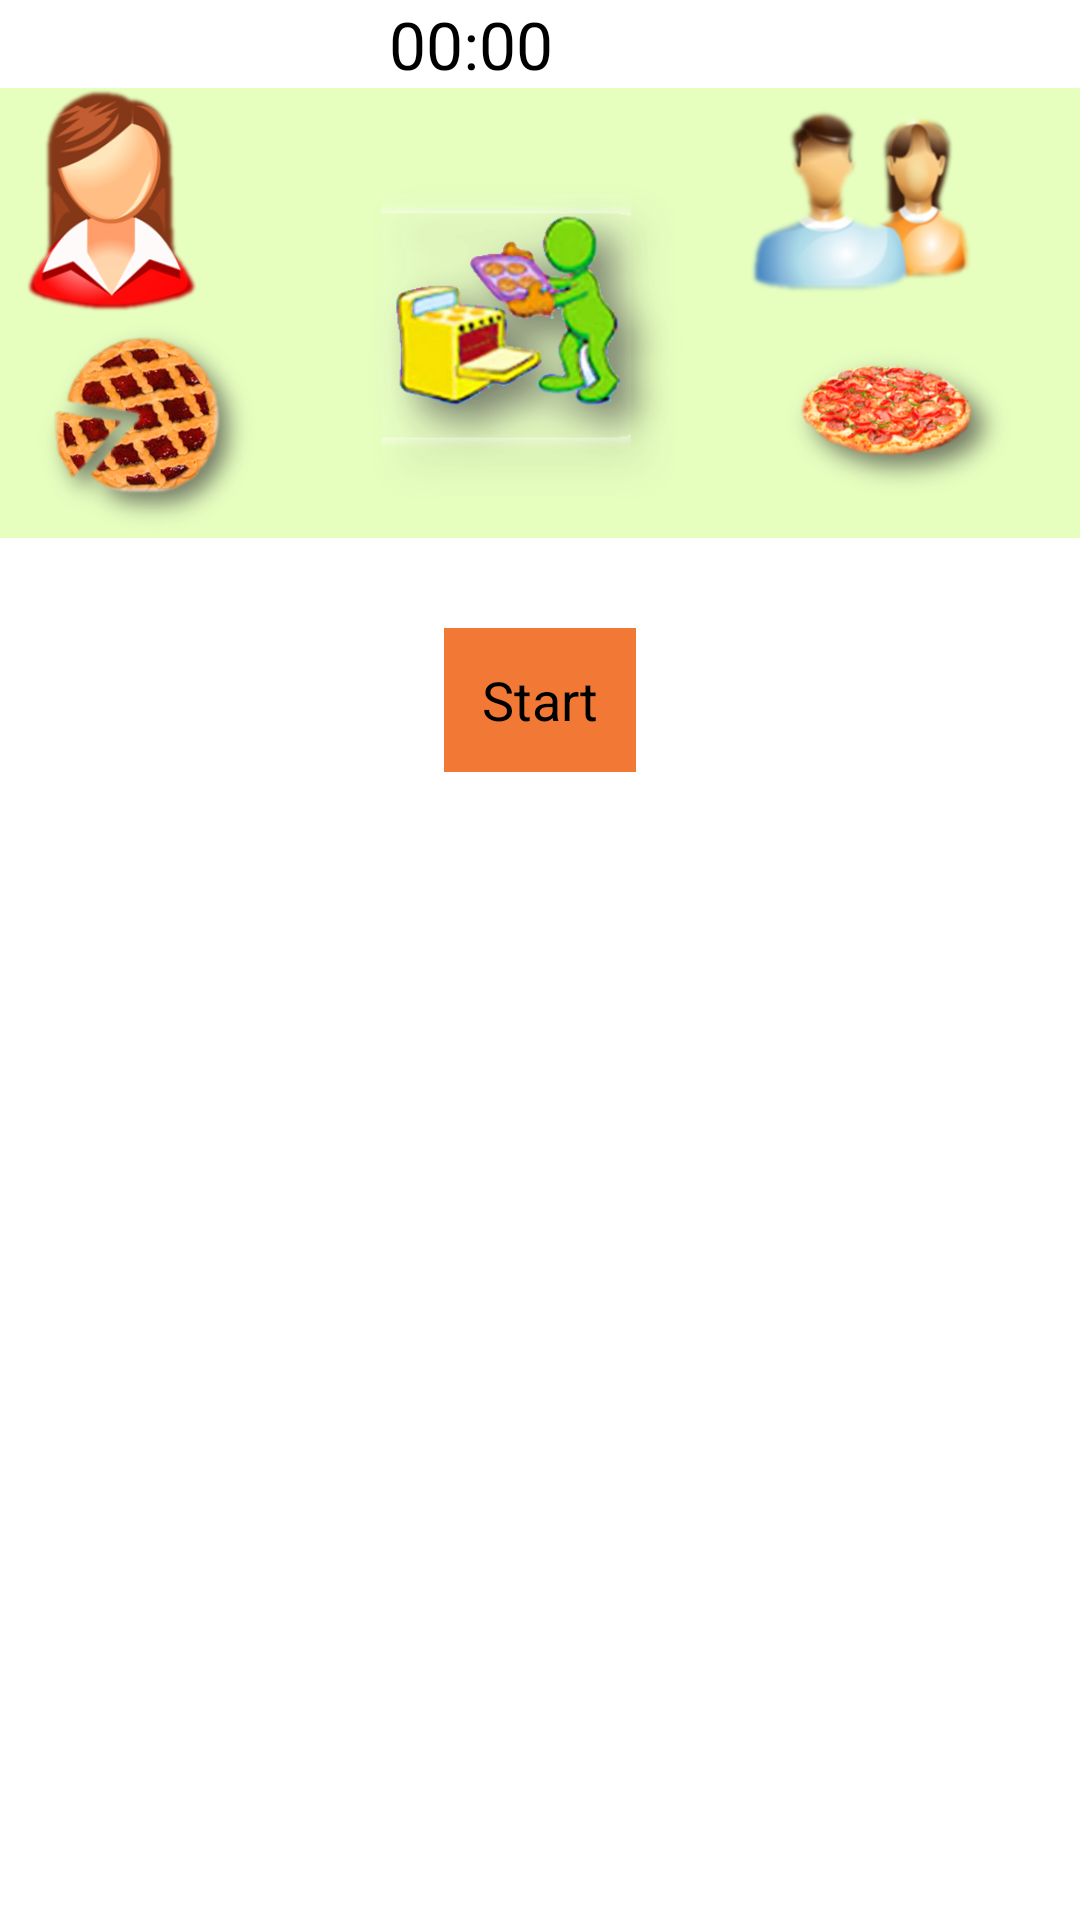

Where icons sit on this 1080w x 1920h app screen, as [left=x1, top=y1, right=x2, bottom=y2]:
bake: [left=381, top=212, right=650, bottom=439]
pie: [left=55, top=337, right=238, bottom=513]
pizza: [left=801, top=365, right=992, bottom=477]
she: [left=28, top=91, right=196, bottom=310]
they: [left=753, top=113, right=968, bottom=289]
